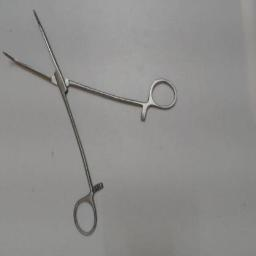Lahey Forceps: (0, 4, 180, 240)
